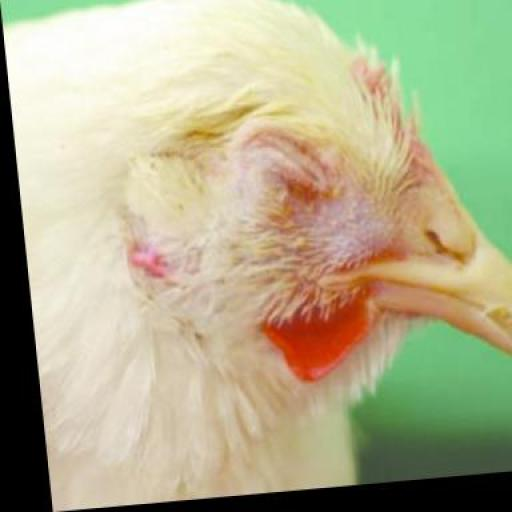disease: (201, 93, 379, 237)
